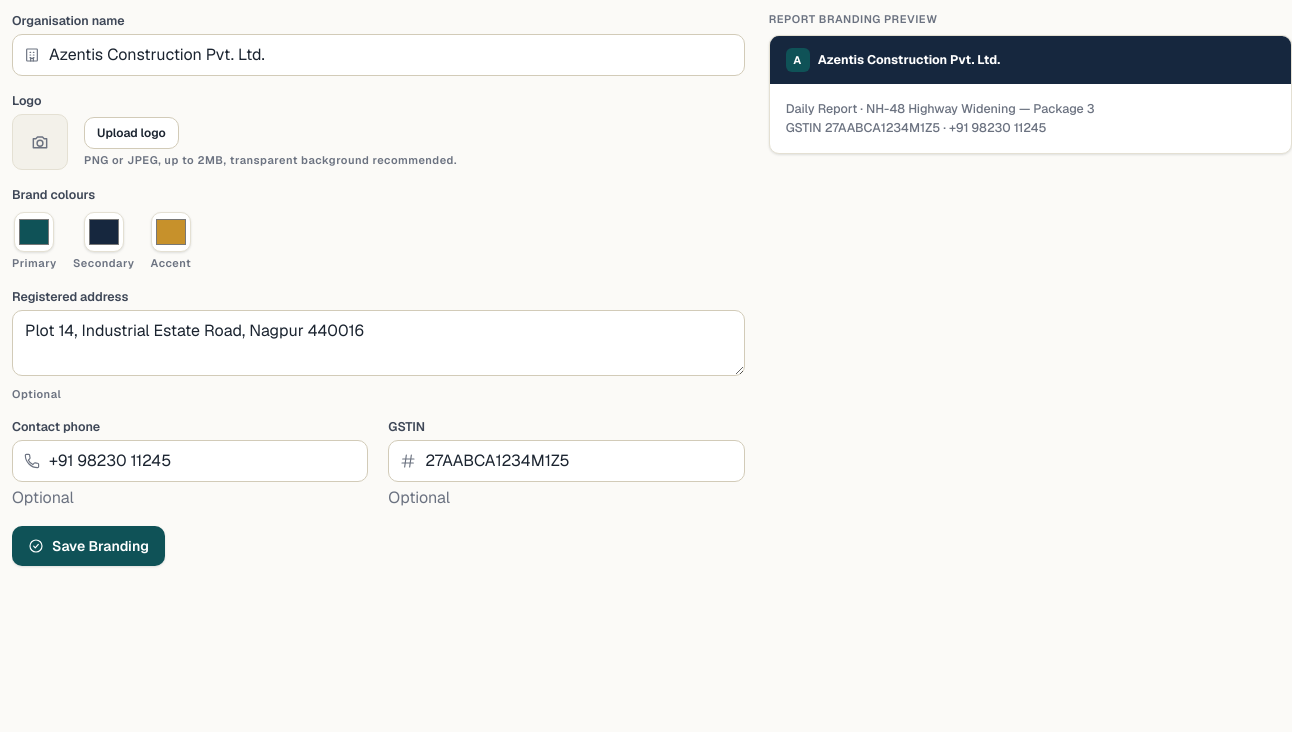
Scenario: BrandingForm (Story 14.1) › live preview reflects IN-PROGRESS values before saving
Expected: the text "Azentis Construction Pvt. Ltd." is shown, left=818, top=51, right=1000, bottom=69
Replace the text in the field labelled "Organisation name" with "Nagpur Builders" at point(378, 55), box left=12, top=34, right=745, bottom=76
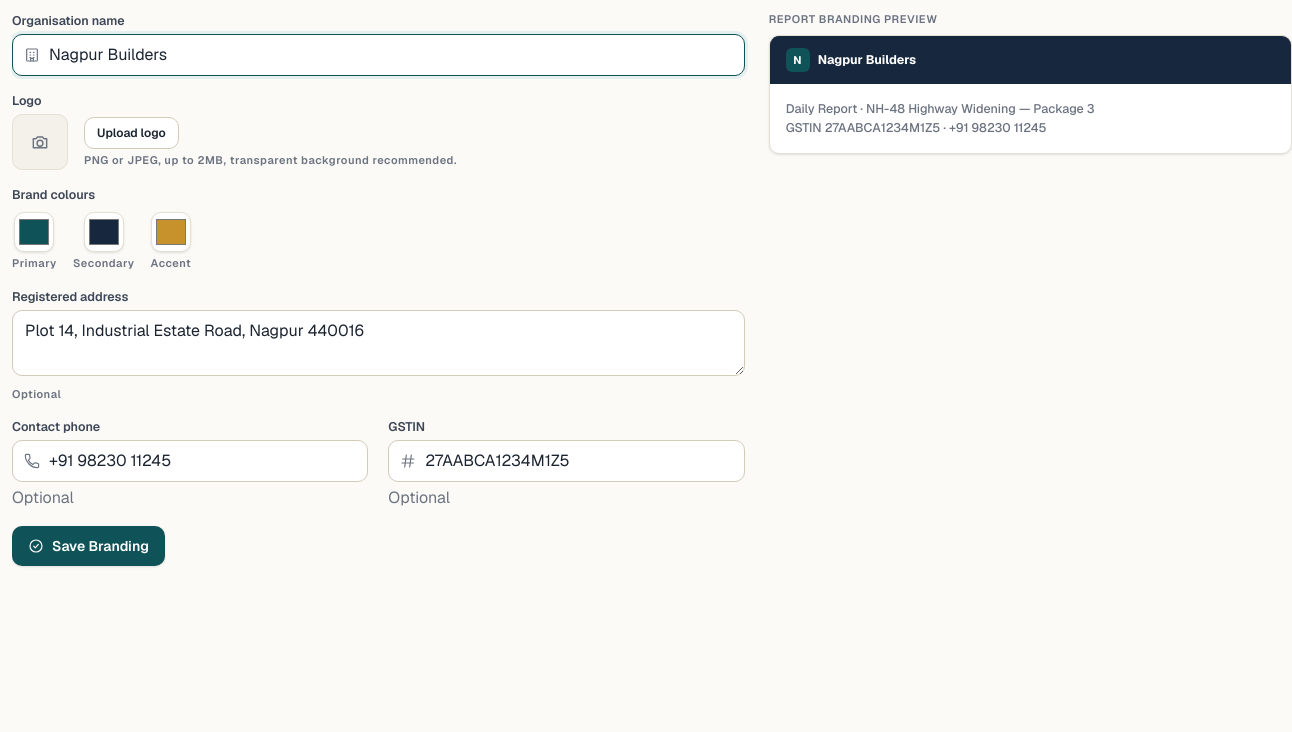
Expected: the text "GSTIN 27AABCA1234M1Z5" is shown, left=786, top=100, right=1095, bottom=136
Now the text "Nagpur Builders" is shown, box left=818, top=51, right=916, bottom=69
